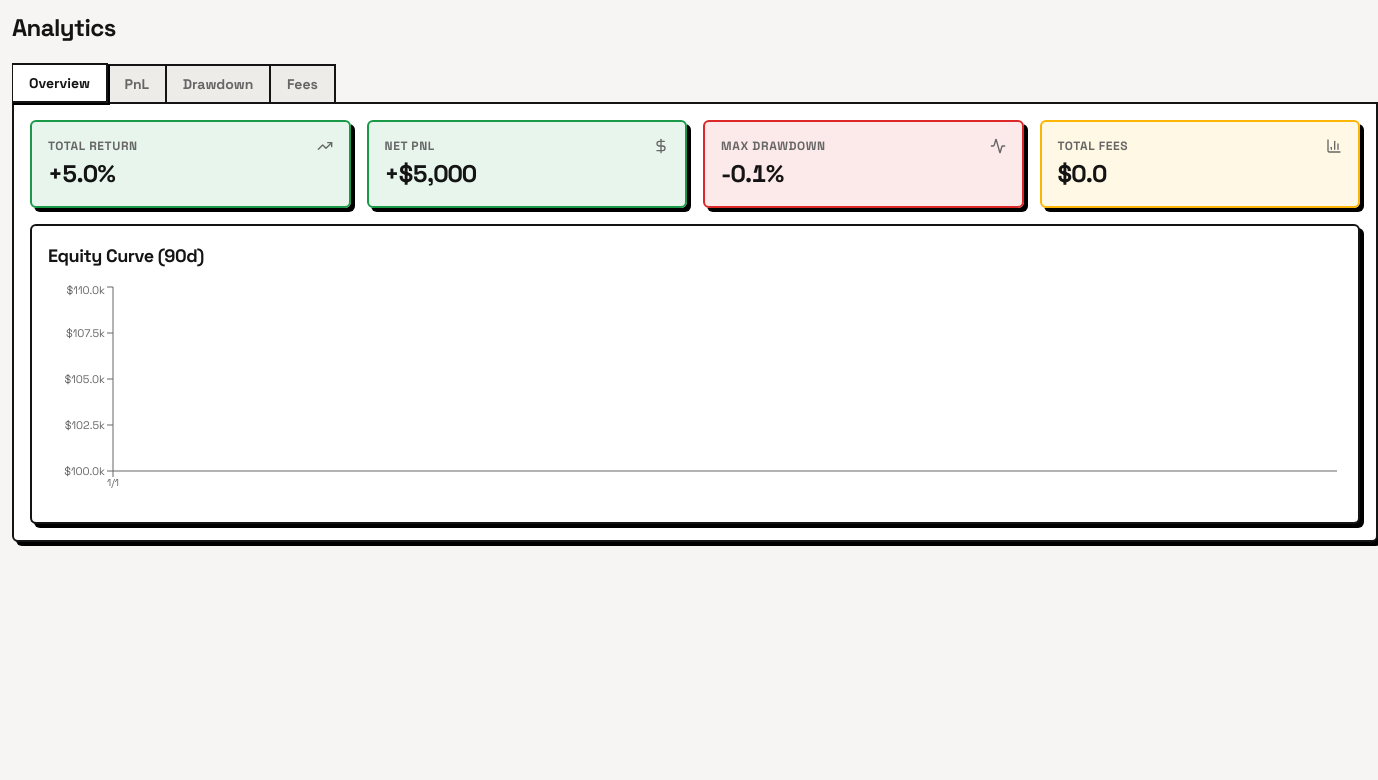
it: AnalyticsPage › Fees Tab › shows error state in Fees tab
The image size is (1378, 780).
Click the button "Fees": (302, 84) [269,64,336,104]
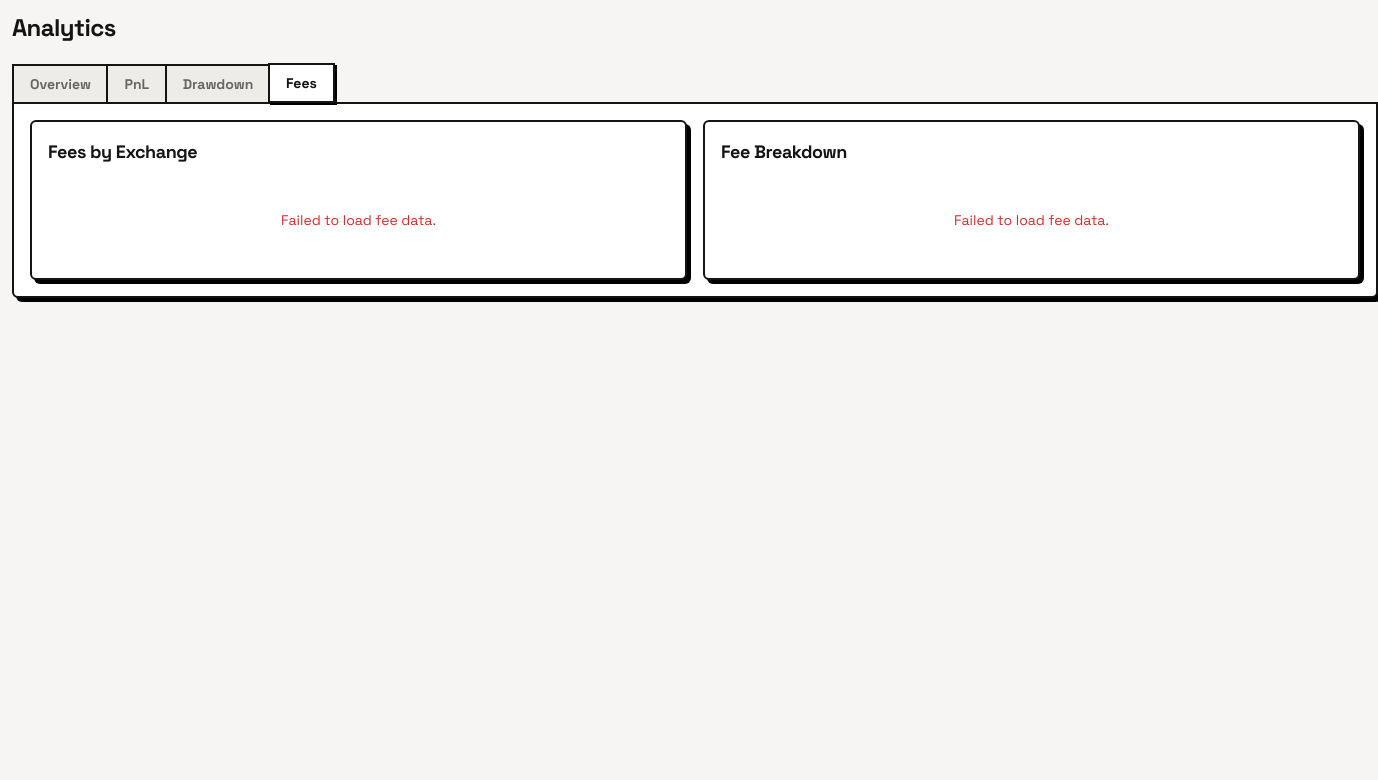
Expected: the text "Failed to load fee data." below "Fees by Exchange" is shown, [281,210,436,228]
